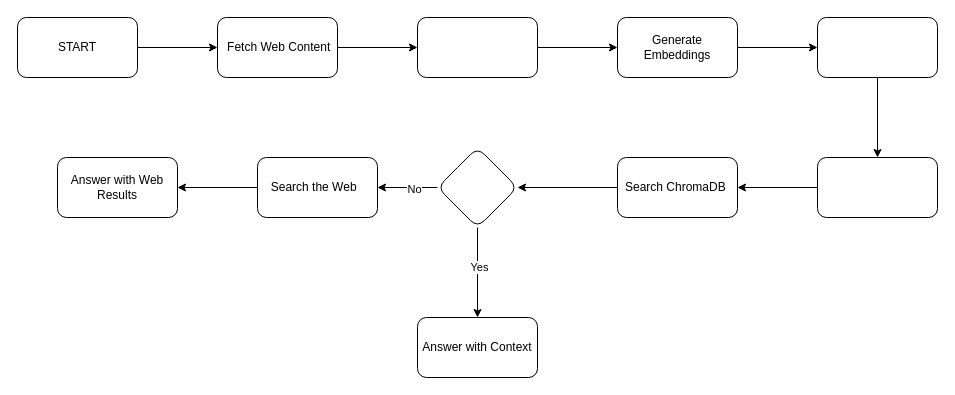
This 955x395 diagram has some shape labels left out. Here are the shapes that lost their labels. From the top down, the centre of each, then its label:
At (x=477, y=47): "Split and Clean Text".
At (x=877, y=47): "Store in ChromaDB".
At (x=477, y=187): "Is Context Relevant?".
At (x=877, y=187): "Receive Question".
